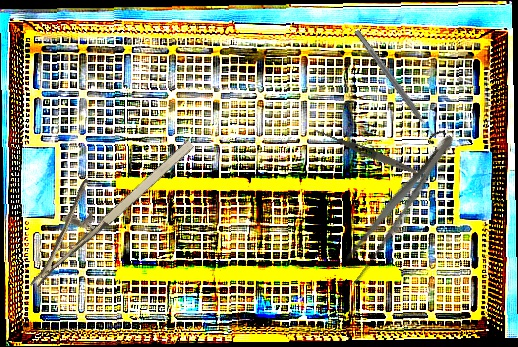Dressing Forceps: (333, 127, 463, 289), (313, 126, 418, 177)
Fixation Ring: (347, 24, 448, 147)
Needle Holder: (1, 112, 199, 290)
